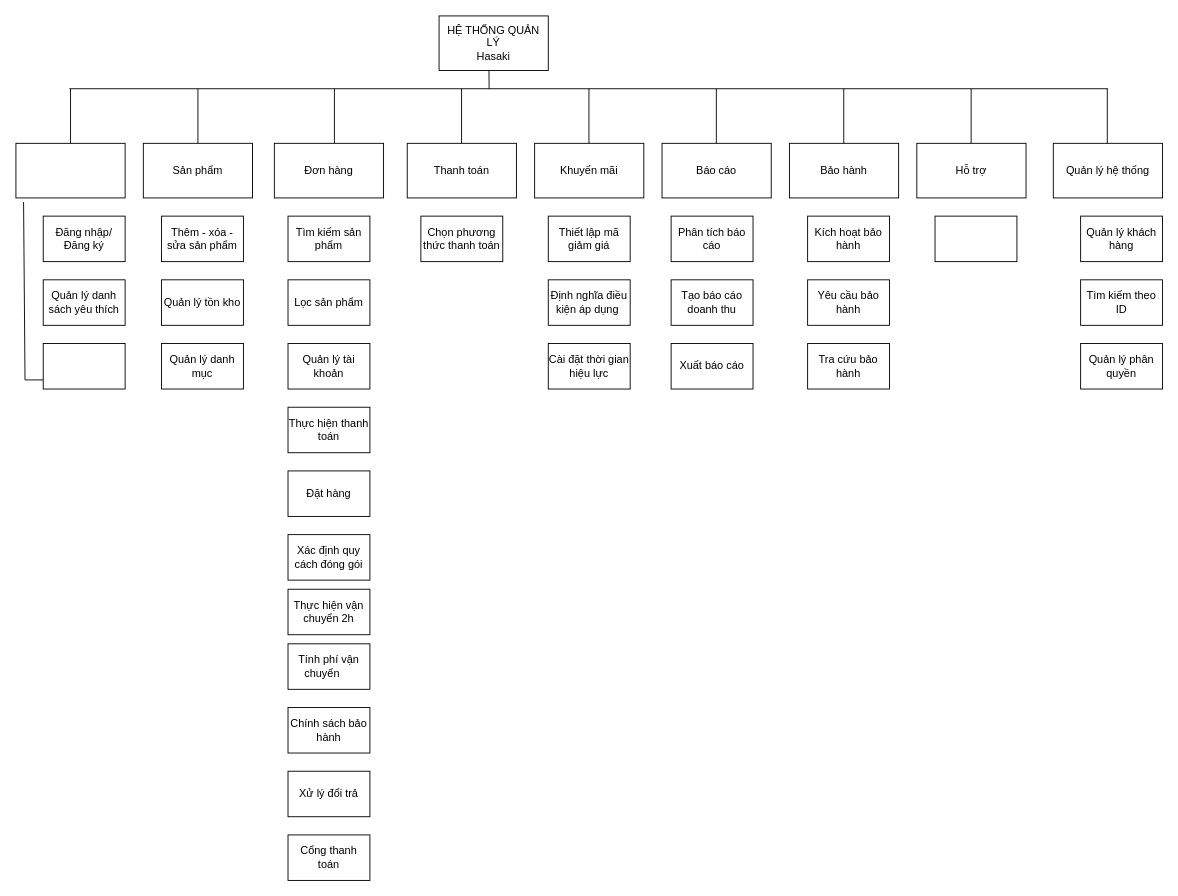
Image size: 1178x896. Some labels were removed from this diagram. Each missing label, with the box of its shape:
Chat bot: (934, 215, 1017, 262)
Hồ sơ người dùng: (42, 343, 125, 389)
Người dùng: (15, 142, 125, 198)
